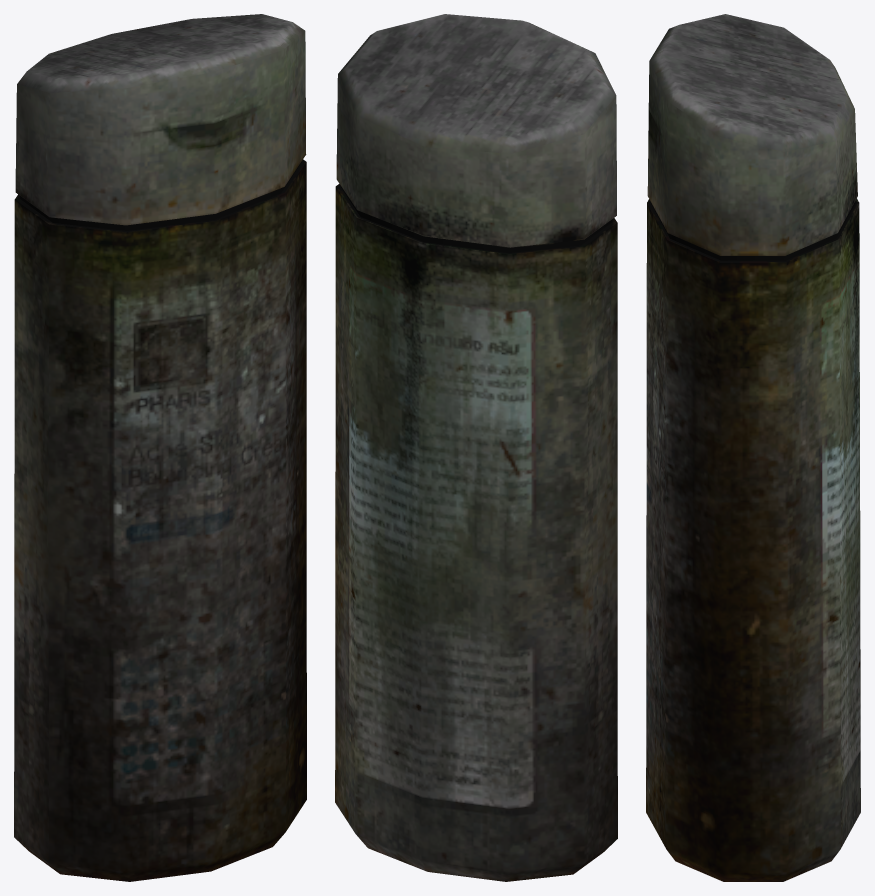
Rendered from bathRoom03.FBX.
The picture shows the model from 3 angles, left to right: view 1: azimuth 30°, elevation 25°; view 2: azimuth 150°, elevation 25°; view 3: azimuth 270°, elevation 25°; orthographic projection. The views are drawn at different scales.
Parts seen in each view (by area): view 1: SM_Bathroom03; view 2: SM_Bathroom03; view 3: SM_Bathroom03.
Part boxes in pixels (x1,y1,x2,y2): SM_Bathroom03: [14, 14, 306, 881]; SM_Bathroom03: [335, 14, 617, 881]; SM_Bathroom03: [646, 14, 860, 881].
Bounding box in the file's own units: 10.21 × 30.6 × 7.7.
1 material, 1 textured.
